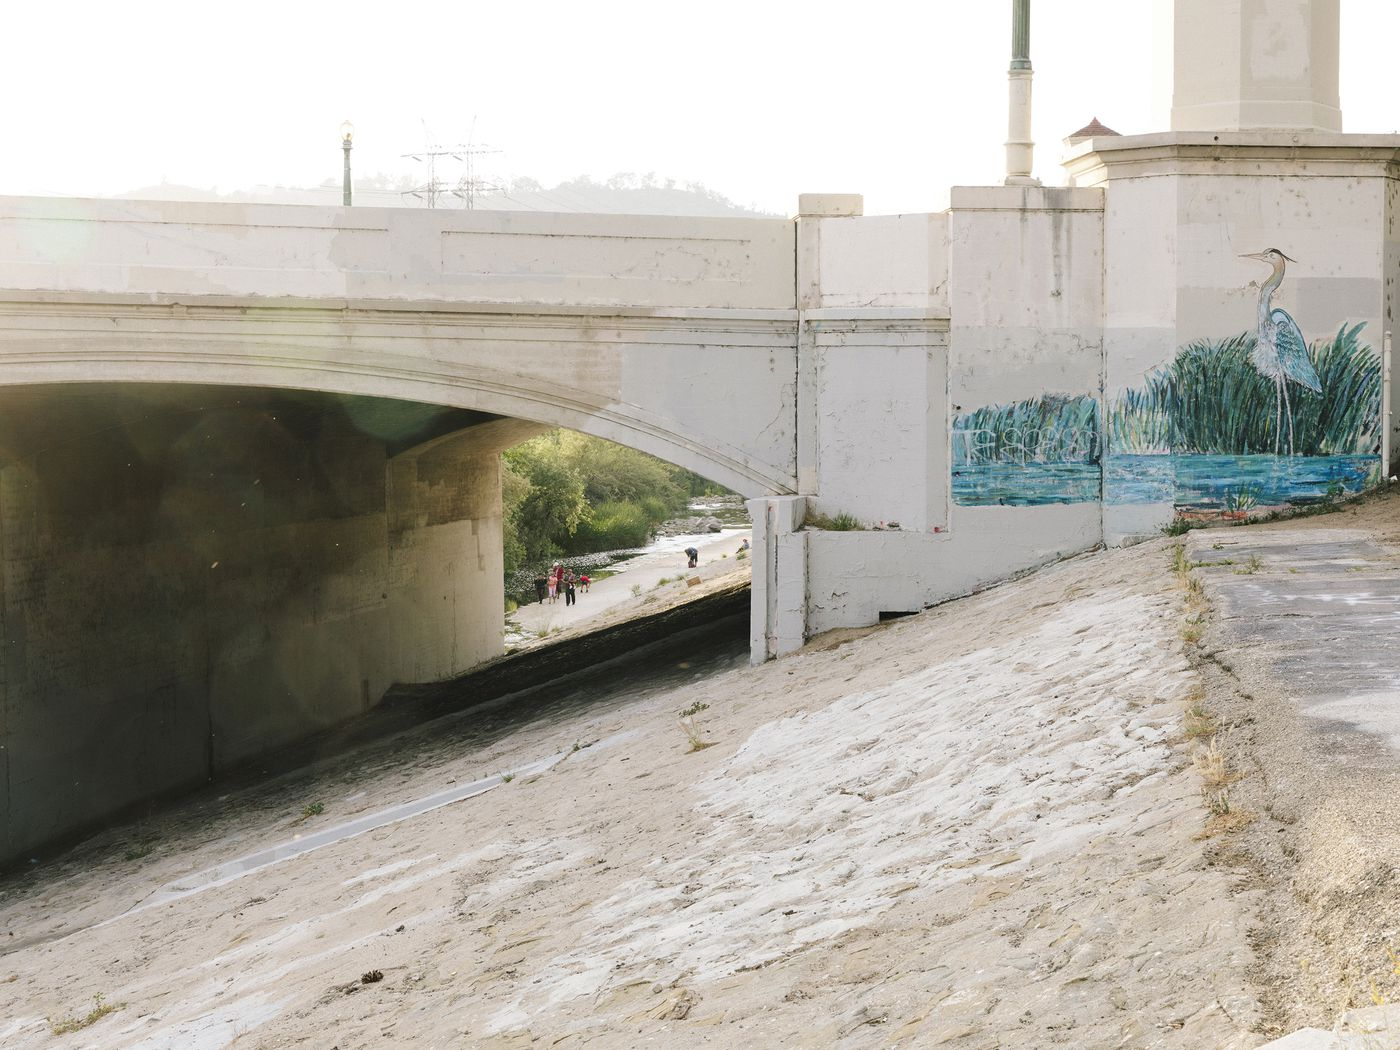bridge: (2, 195, 945, 528)
